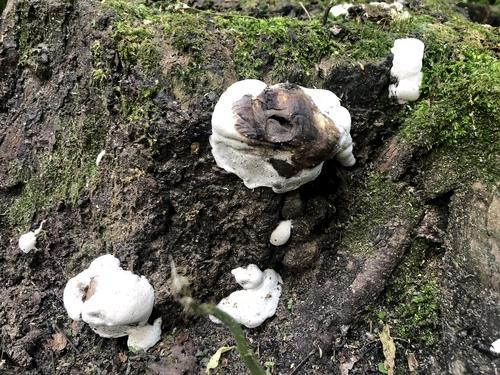Ganoderma - Fruit Body: (204, 76, 362, 191), (65, 252, 152, 337), (214, 266, 280, 330), (389, 38, 426, 102)
